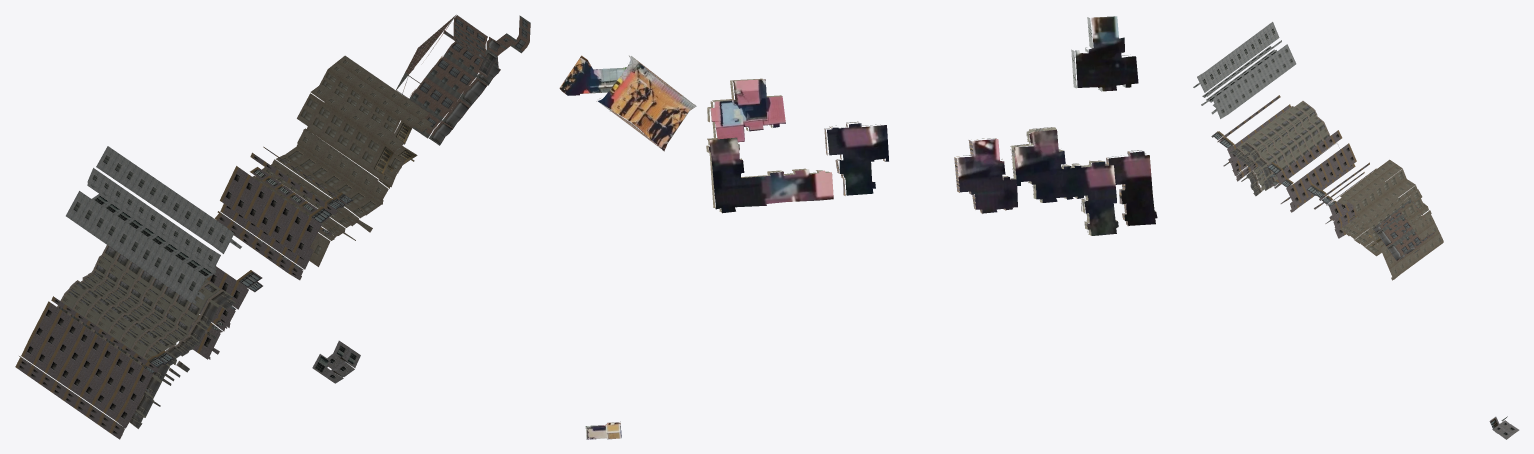
Rendered from tile_LOD4_r2_c15.glb.
3 renders of one model, left to right at view 1: azimuth 30°, elevation 25°; view 2: azimuth 150°, elevation 25°; view 3: azimuth 270°, elevation 25°, orthographic. The views are drawn at different scales.
Bounding box in the file's own units: 167 × 123 × 127.
Materials: 34 (34 with a texture image).
